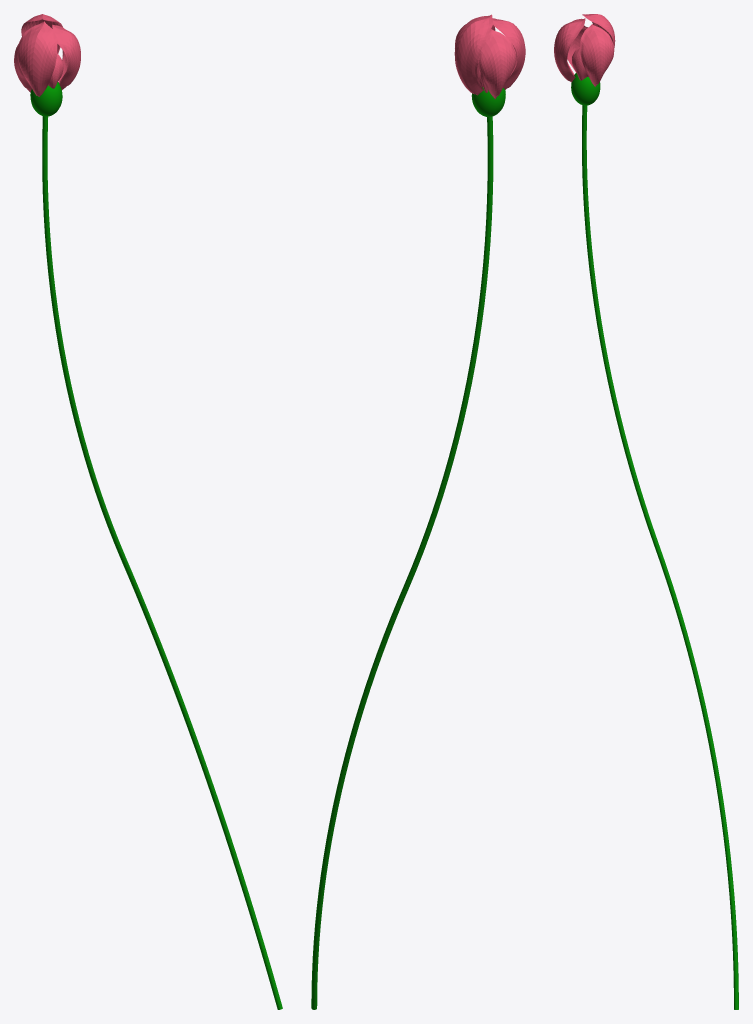
Rendered from Lotus005.fbx.
3 views of the same model, side by side, from view 1: azimuth 30°, elevation 25°; view 2: azimuth 150°, elevation 25°; view 3: azimuth 330°, elevation 25° (orthographic). The views are drawn at different scales.
Visible parts, largest first — view 1: pCylinder5, nurbsToPoly11, nurbsToPoly24, pSphere4; view 2: pCylinder5, nurbsToPoly10, nurbsToPoly12, nurbsToPoly11, pSphere4; view 3: pCylinder5, nurbsToPoly24, nurbsToPoly11, pSphere4.
Boxes of the visible parts, x1,y1,x2,y2 form: pCylinder5: (42,116,282,1009); nurbsToPoly11: (17,21,57,96); nurbsToPoly24: (52,24,80,89); pSphere4: (30,82,62,116); pCylinder5: (311,116,493,1009); nurbsToPoly10: (454,14,492,95); nurbsToPoly12: (478,29,516,99); nurbsToPoly11: (492,18,525,89); pSphere4: (471,87,505,116); pCylinder5: (582,105,738,1009); nurbsToPoly24: (580,24,614,86); nurbsToPoly11: (554,18,585,82); pSphere4: (571,73,600,105).
Bounding box in the file's own units: 49.17 × 207 × 19.89.
